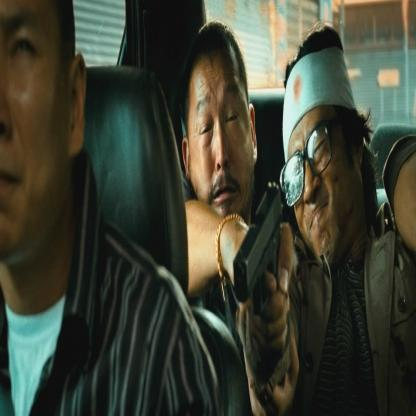gun: (217, 180, 290, 305)
